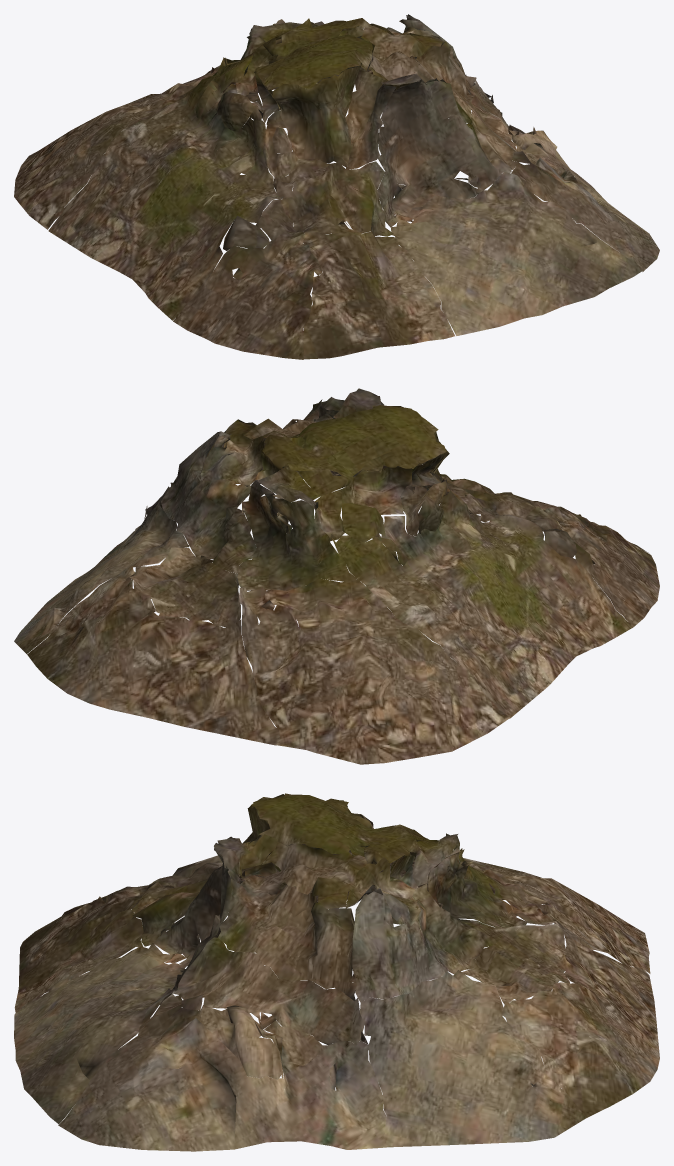
File: tree_stump_01.glb
3 views of the same model, one above another, from view 1: azimuth 30°, elevation 25°; view 2: azimuth 150°, elevation 25°; view 3: azimuth 270°, elevation 25° (orthographic). The views are drawn at different scales.
Visible parts, largest first — view 1: tree_stump_01; view 2: tree_stump_01; view 3: tree_stump_01.
Part boxes in pixels (bbox=[...]): tree_stump_01: bbox=[14, 14, 659, 359]; tree_stump_01: bbox=[14, 388, 659, 764]; tree_stump_01: bbox=[14, 793, 659, 1151].
Bounding box in the file's own units: 1.42 × 0.571 × 1.59.
1 material, 1 textured.
